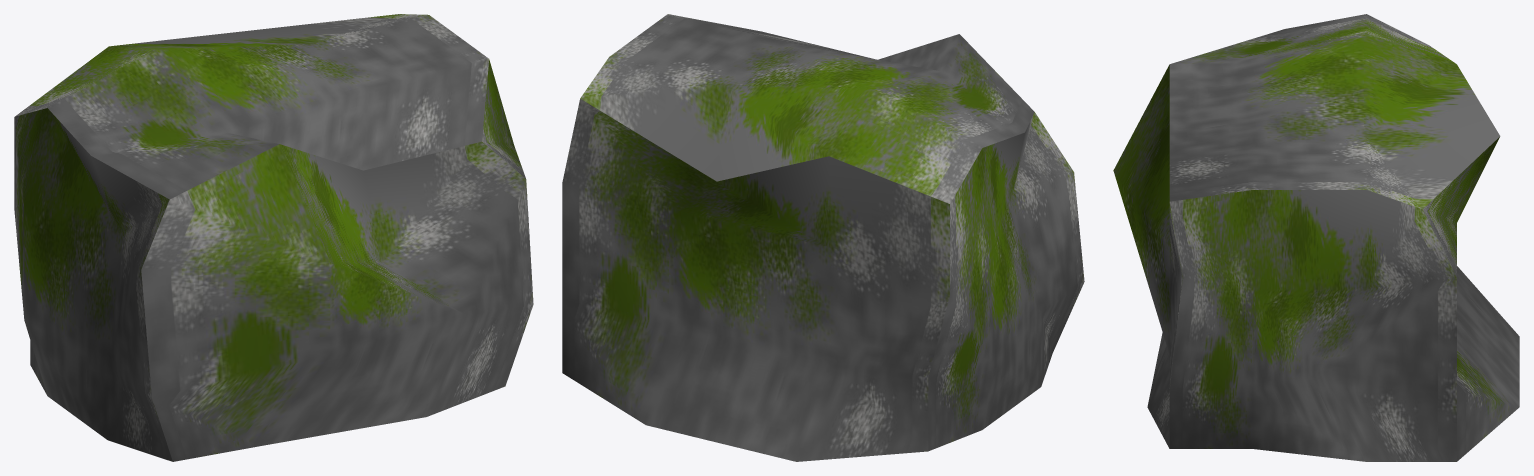
Rendered from rock_03.FBX.
The picture shows the model from 3 angles, left to right: view 1: azimuth 30°, elevation 25°; view 2: azimuth 150°, elevation 25°; view 3: azimuth 270°, elevation 25°; orthographic projection. The views are drawn at different scales.
Visible parts, largest first — view 1: Box003; view 2: Box003; view 3: Box003.
Part boxes in pixels (x1=…): Box003: x1=14, y1=14, x2=533, y2=461; Box003: x1=562, y1=14, x2=1084, y2=461; Box003: x1=1113, y1=14, x2=1519, y2=461.
Bounding box in the file's own units: 31.87 × 23 × 28.04.
